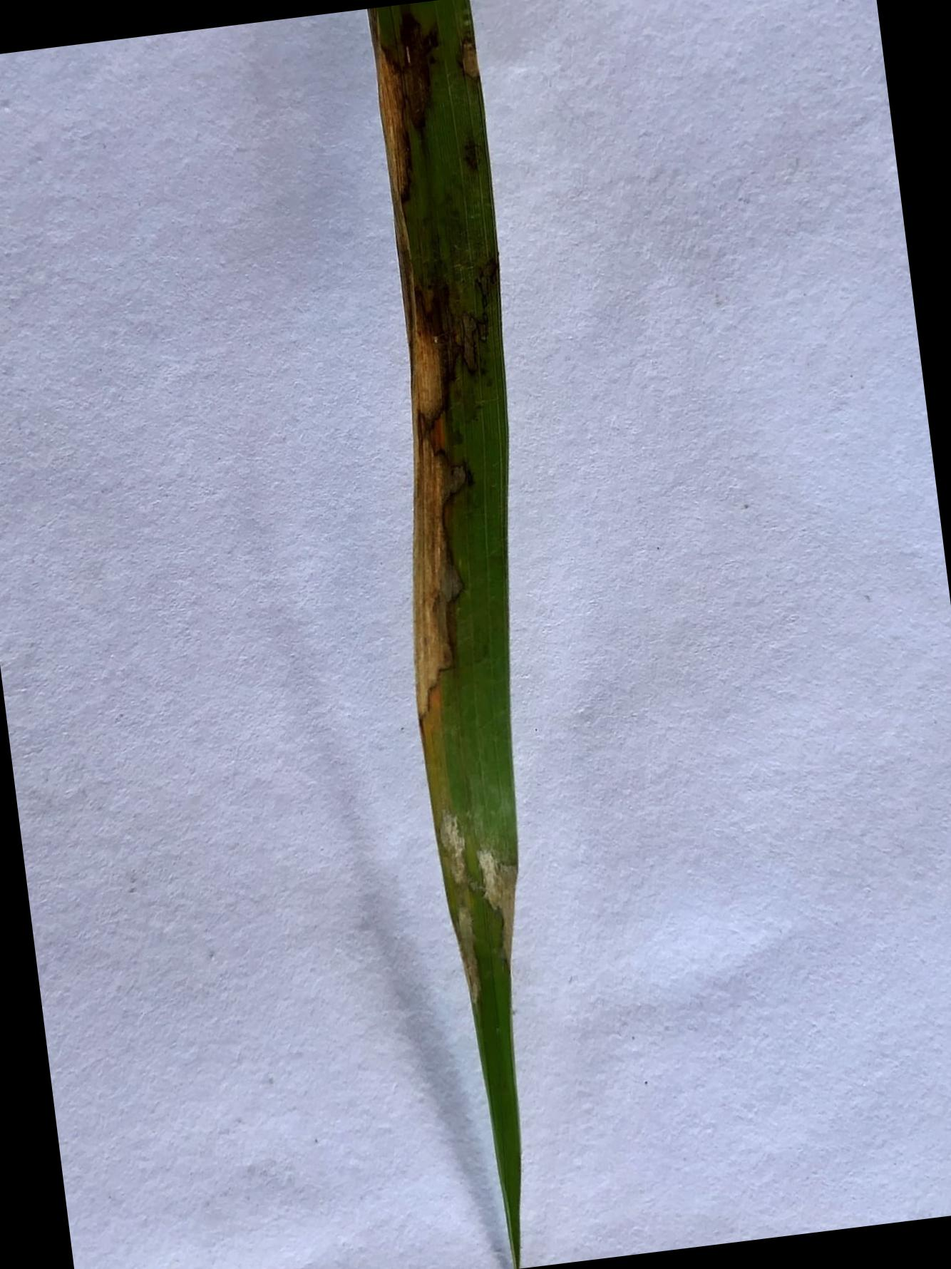Leaf Blight: (366, 7, 466, 727), (436, 805, 481, 1008), (478, 850, 521, 961), (460, 309, 477, 370), (460, 35, 480, 81)
